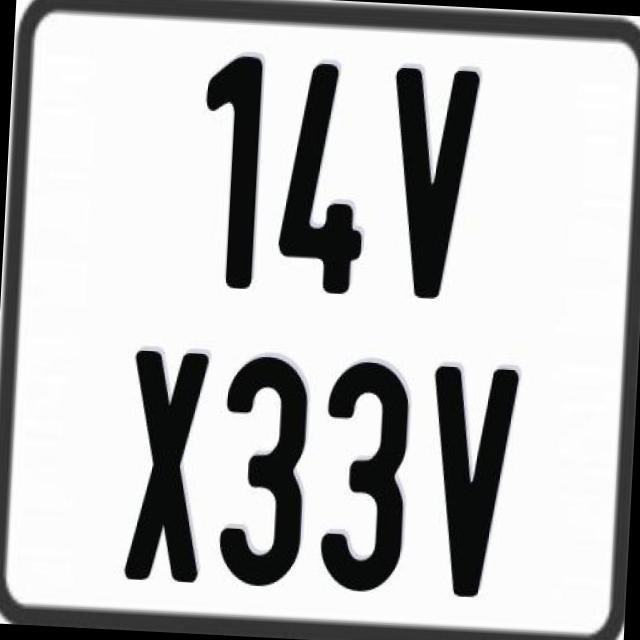1: (192, 54, 260, 290)
3: (216, 352, 312, 590), (318, 361, 414, 598)
4: (276, 58, 378, 302)
V: (424, 365, 527, 604), (381, 65, 477, 308)
X: (122, 348, 209, 583)
